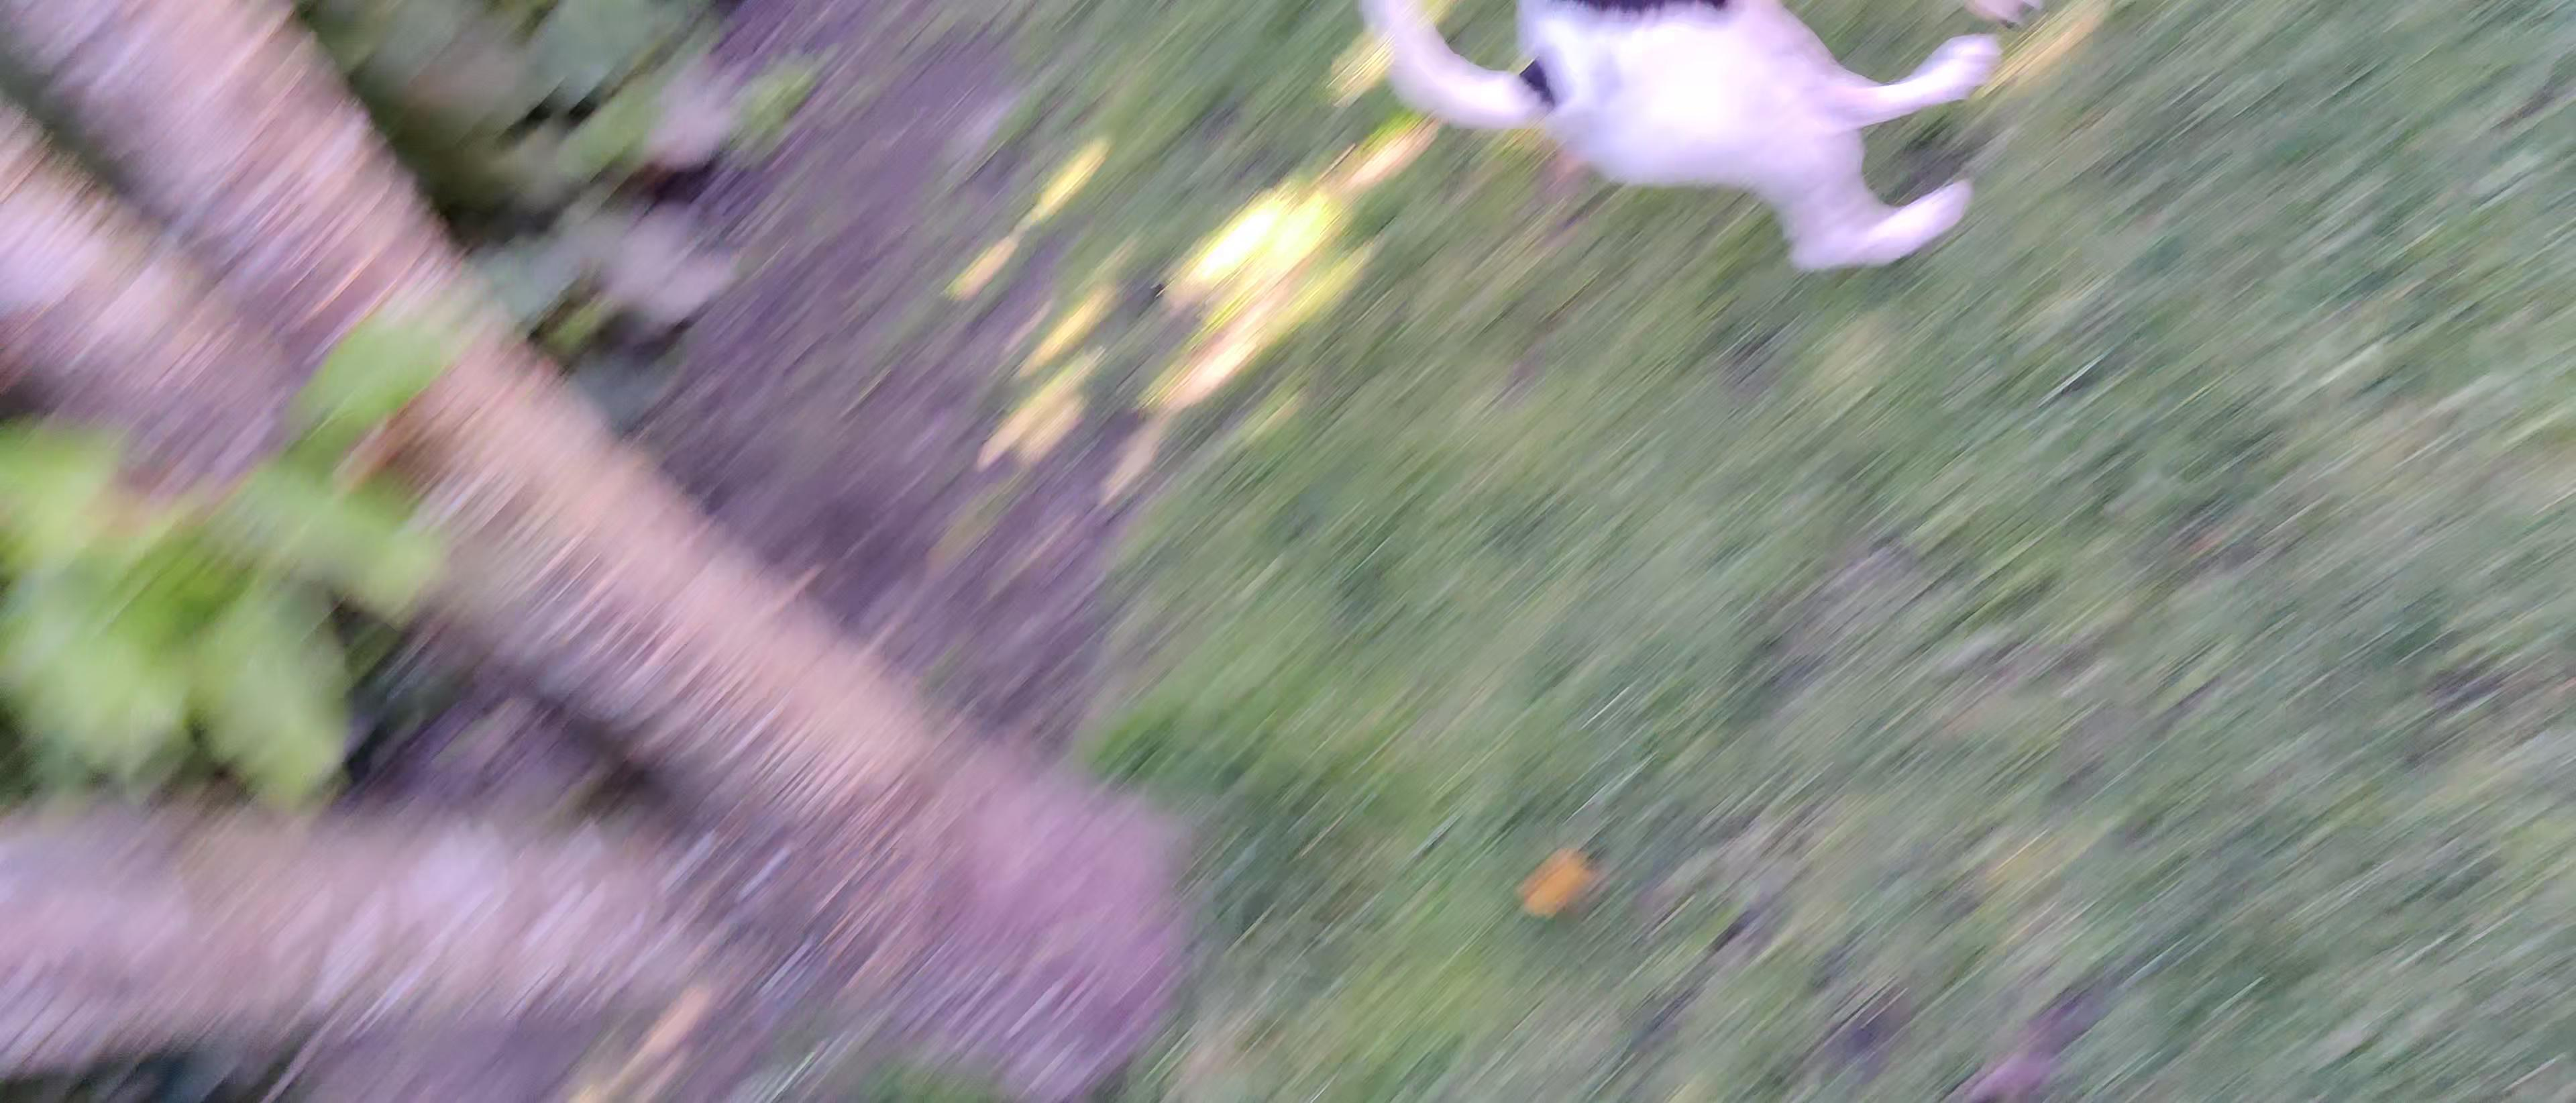Dog: (1354, 0, 2009, 332)
